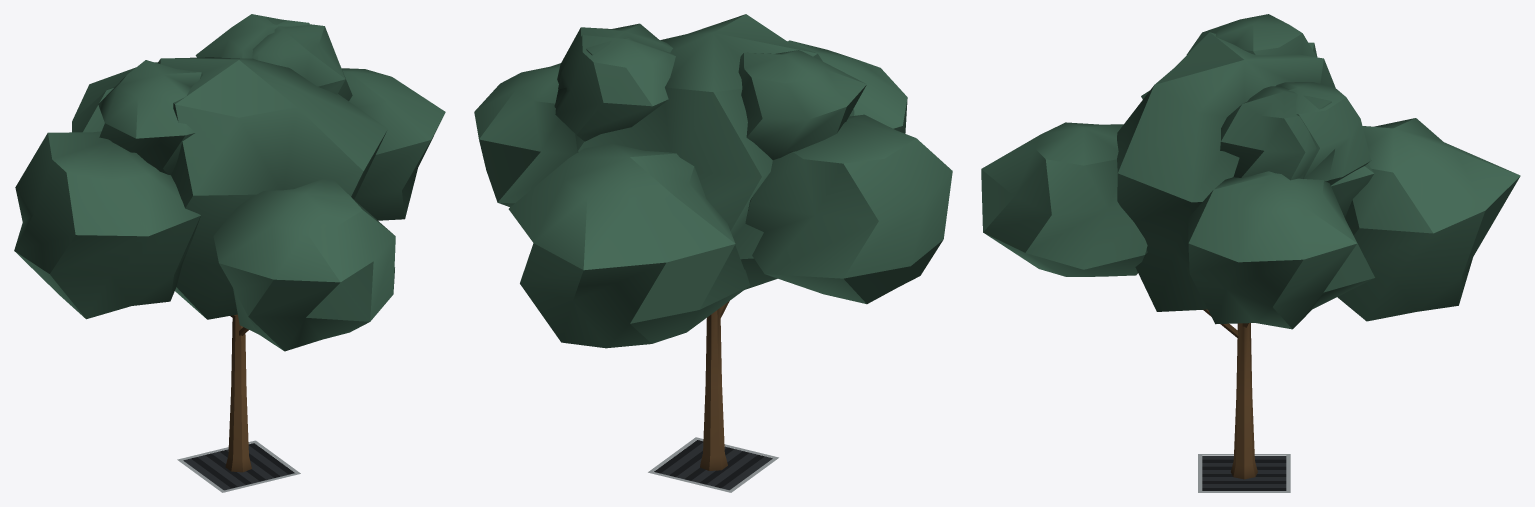
Rendered from tree-round.lod1.glb.
3 renders of one model, left to right at view 1: azimuth 30°, elevation 25°; view 2: azimuth 150°, elevation 25°; view 3: azimuth 270°, elevation 25°, orthographic. The views are drawn at different scales.
Visible parts, largest first — view 1: structure; view 2: structure; view 3: structure.
Part boxes in pixels (<box>): structure: <box>14,14,445,492</box>; structure: <box>474,14,952,492</box>; structure: <box>981,14,1520,492</box>.
Bounding box in the file's own units: 8.82 × 8.4 × 9.92.
